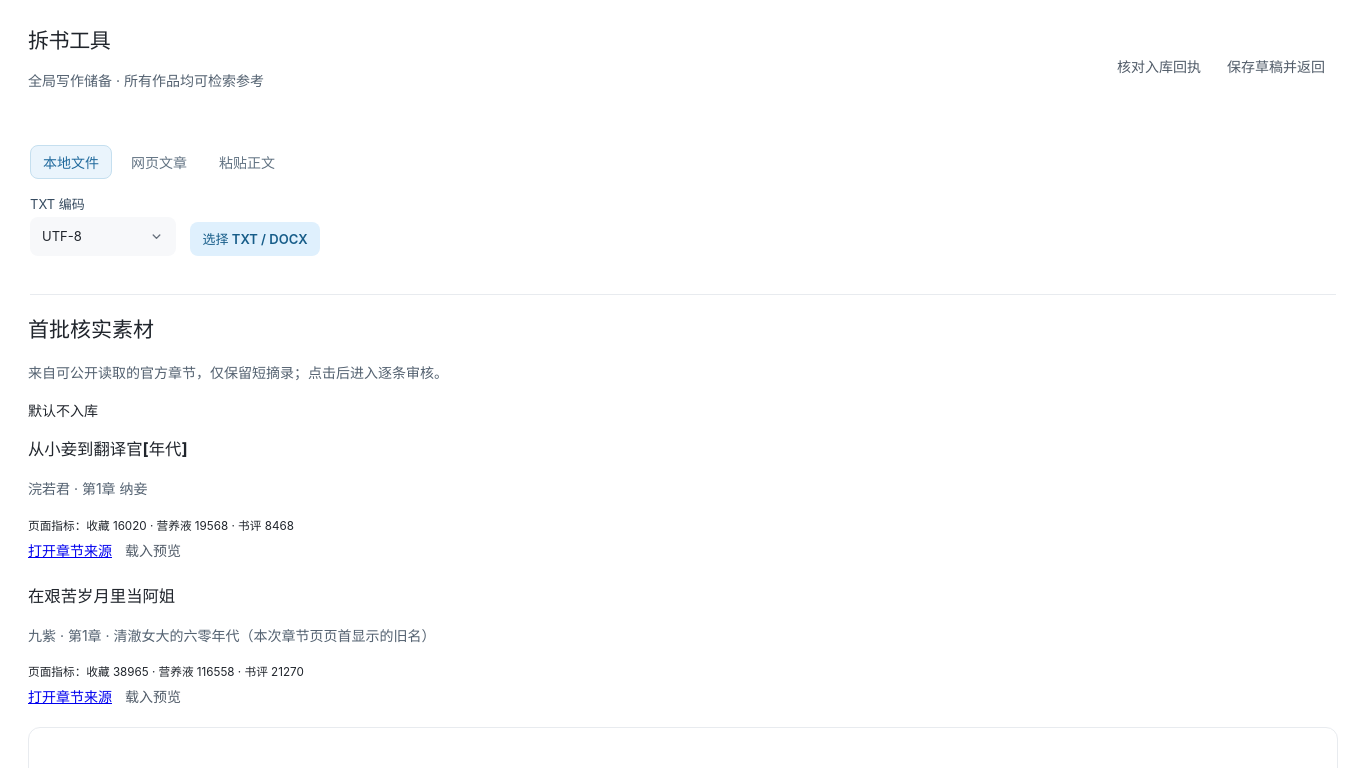
首批素材只载入待审预览；核对原句和权限后才请求加入全局知识库
Step 1. Click the button "载入预览" below "收藏 16020 · 营养液 19568 · 书评 8468" → (153, 550), box [112,532,194,566]
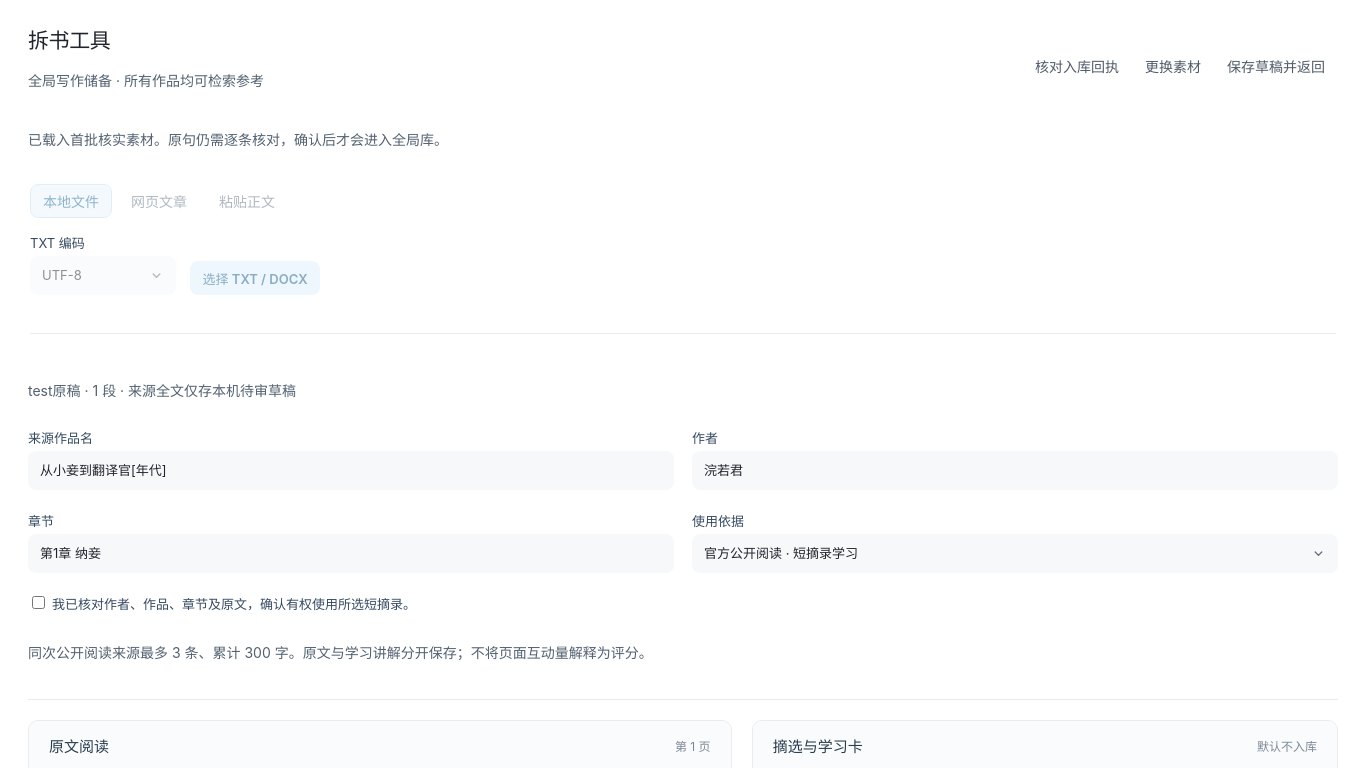
Step 2. Click the checkbox labelled "我已核对作者、作品、章节及原文，确认有权使用所选短摘录。" → (38, 602), box [32,596,45,609]
(page scrolled)
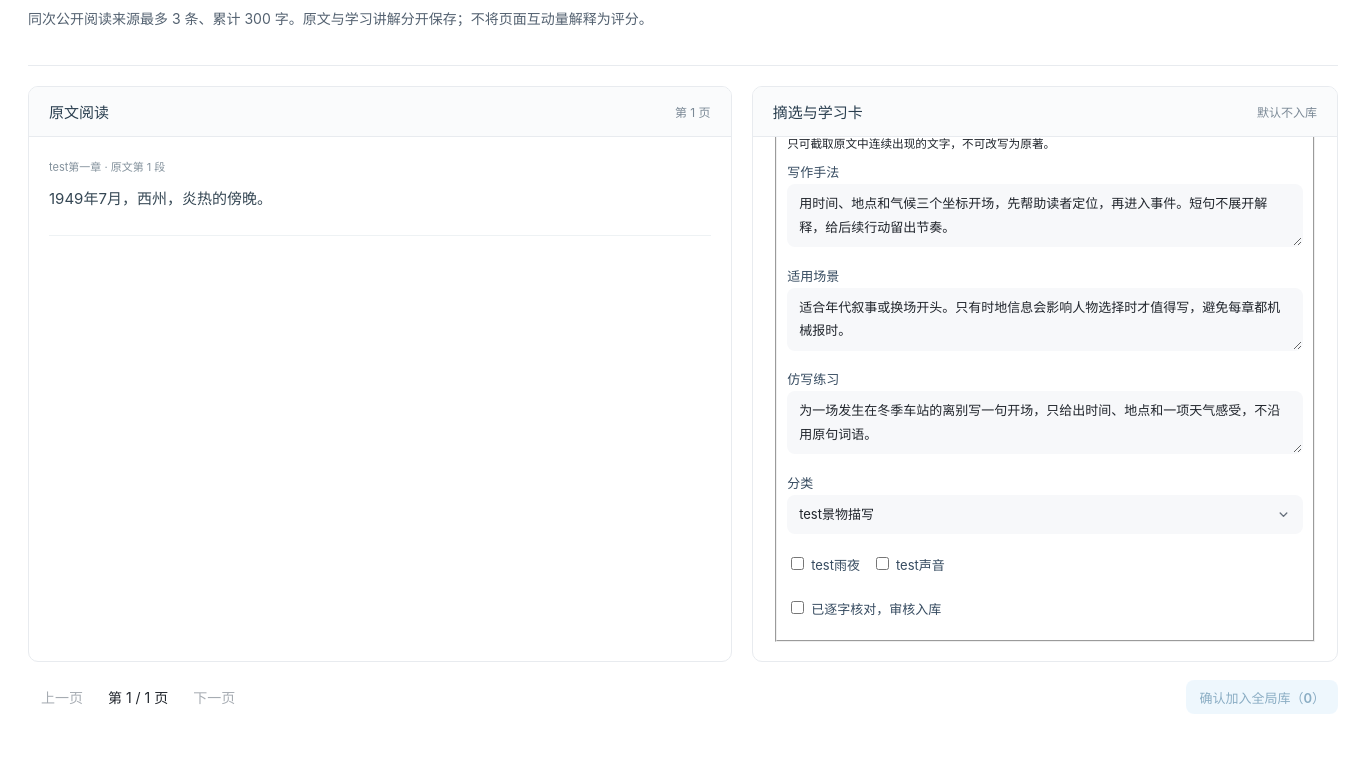
Step 3. Click the checkbox labelled "已逐字核对，审核入库" → (798, 607), box [791,601,804,614]
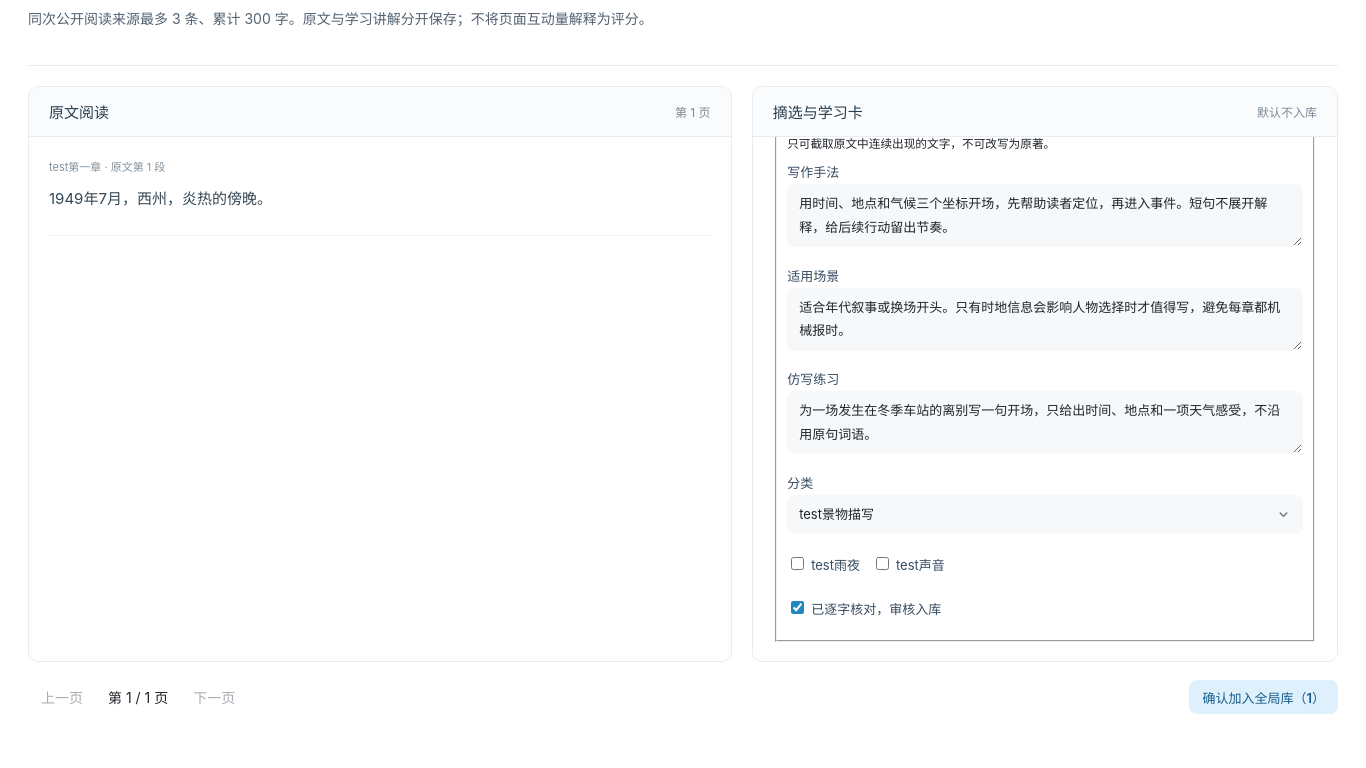
Step 4. Click the button "确认加入全局库（1）" → (1264, 698), box [1190,680,1338,714]
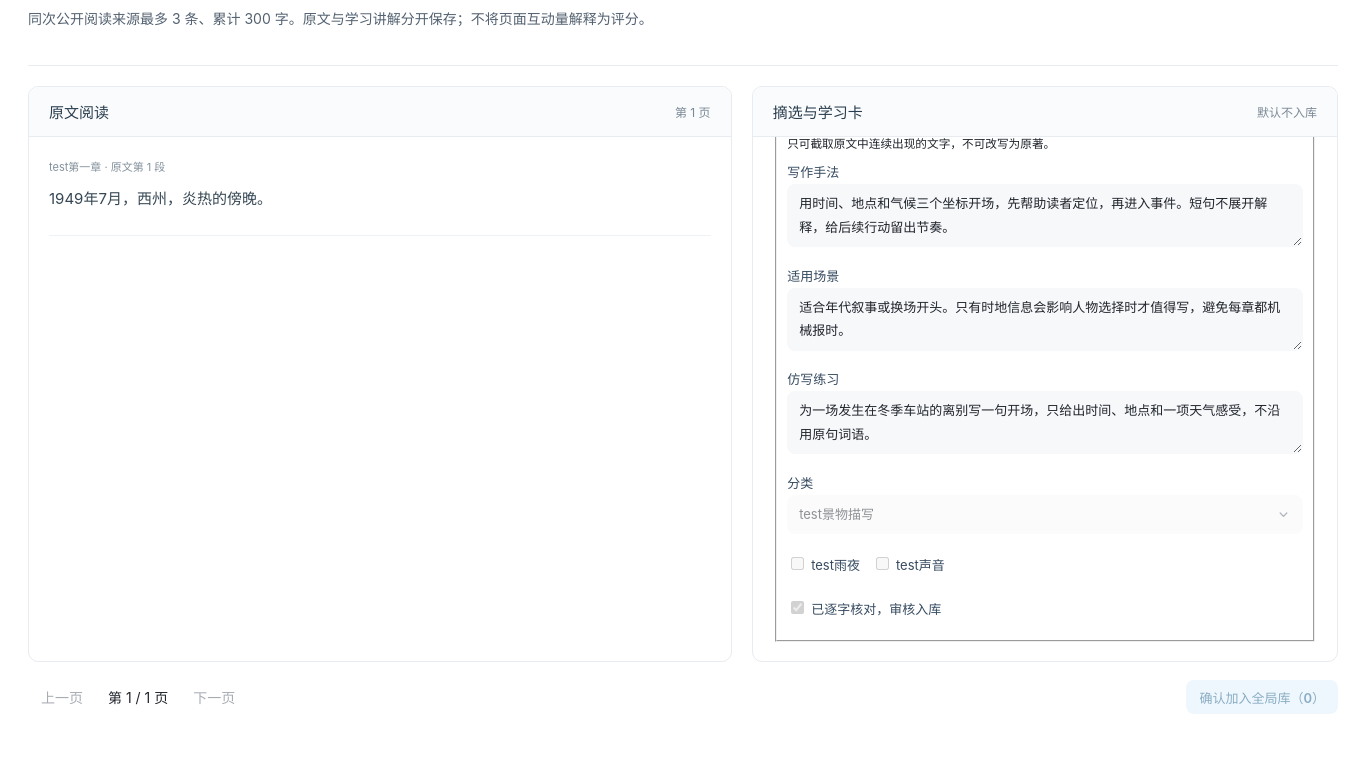
Expected: the button "确认加入全局库（0）" is disabled, [1186,680,1338,714]
